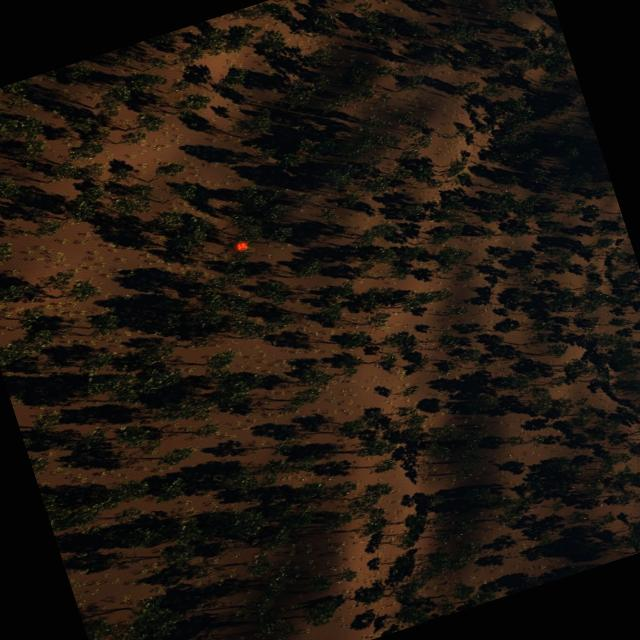fire: (234, 239, 249, 252)
